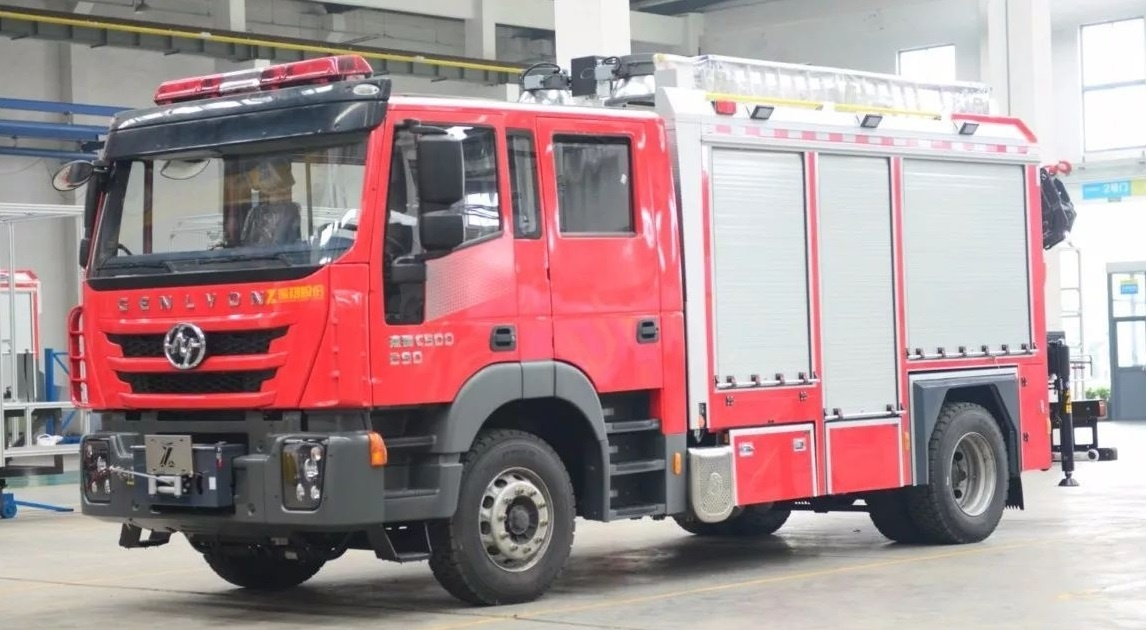fire engine: (63, 55, 1111, 597)
